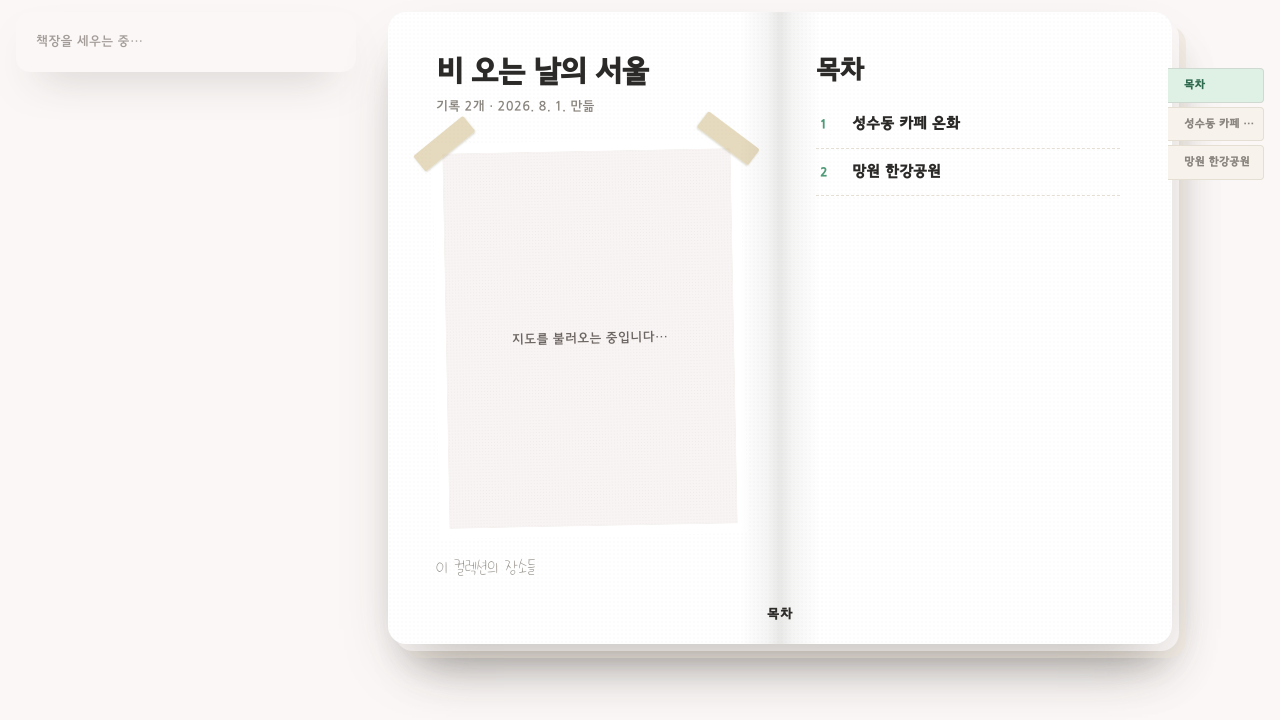
CollectionDetailView — 펼침면 타인 배치(418) › Context 원문을 한 글자도 렌더하지 않는다(공개 범위)
Click the button "성수동 카페 온화" at coordinates (1216, 124), box [1168,106,1264,141]
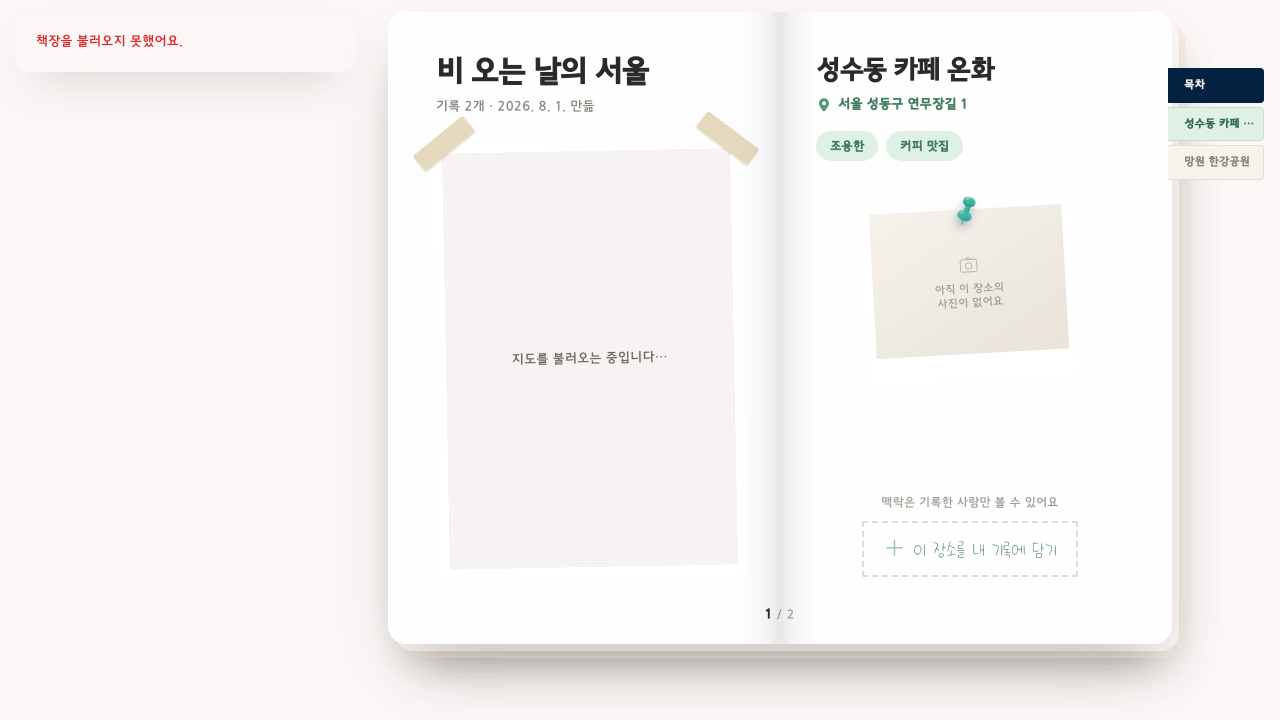
Now the text "맥락은 기록한 사람만 볼 수 있어요" is shown, box [881,496,1059,508]
